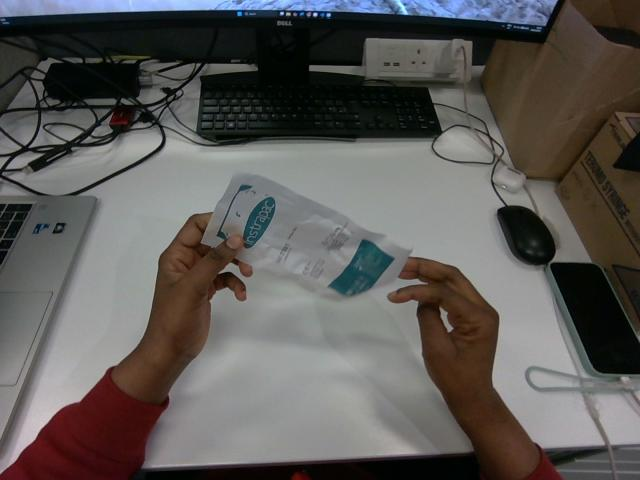gallipot: (202, 174, 410, 295)
